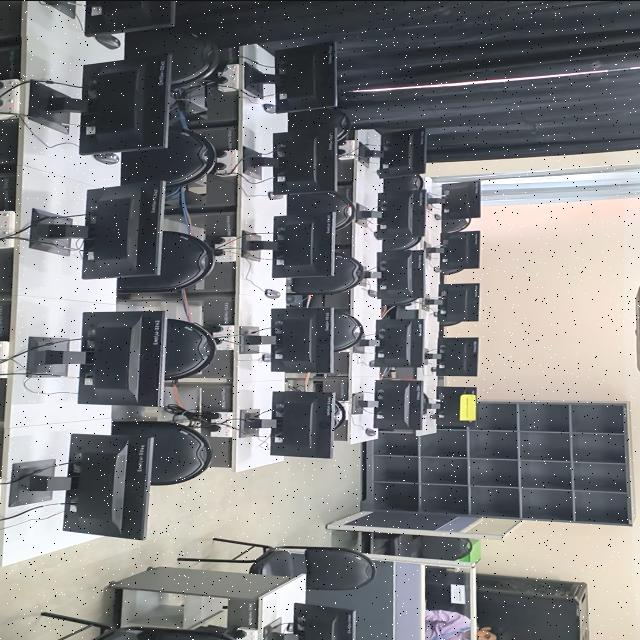Chair: (179, 537, 375, 589), (126, 27, 231, 90), (112, 420, 212, 485), (122, 125, 217, 192), (118, 231, 214, 292), (42, 612, 238, 640), (165, 318, 217, 380), (289, 255, 364, 294), (366, 533, 473, 559), (288, 191, 355, 228), (289, 107, 352, 140), (335, 309, 364, 350), (385, 174, 424, 191), (383, 236, 420, 250), (336, 400, 347, 429)
Monitor: (30, 52, 171, 155), (31, 180, 165, 279), (63, 433, 154, 539), (78, 310, 167, 406), (244, 41, 337, 113), (244, 127, 337, 194), (244, 306, 335, 372), (244, 211, 335, 277), (271, 391, 338, 457), (264, 602, 356, 640), (360, 127, 427, 178), (85, 0, 174, 36), (377, 249, 426, 304), (371, 317, 425, 366), (375, 379, 426, 429), (375, 190, 425, 239), (438, 283, 479, 325), (436, 336, 479, 376), (441, 230, 480, 270), (439, 386, 477, 426), (443, 181, 481, 219)
Mouse: (96, 34, 121, 49), (93, 152, 120, 164), (265, 289, 281, 298), (263, 104, 277, 113), (368, 289, 377, 297)
Projector: (636, 285, 640, 371)
